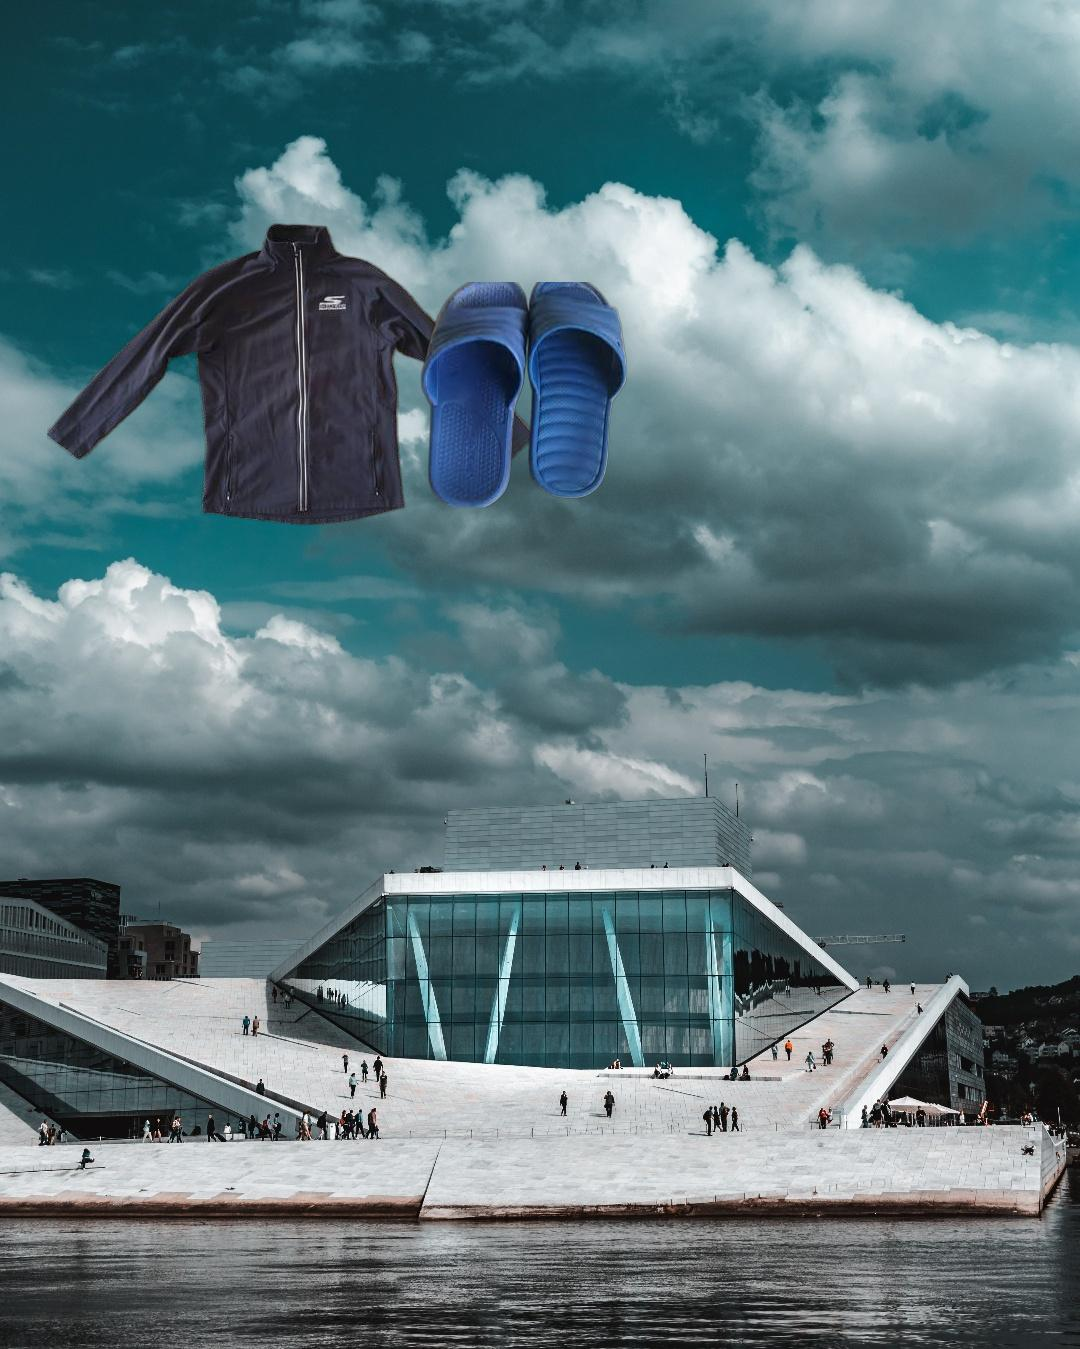clothes: (47, 222, 542, 529)
shoes: (418, 282, 630, 507)
